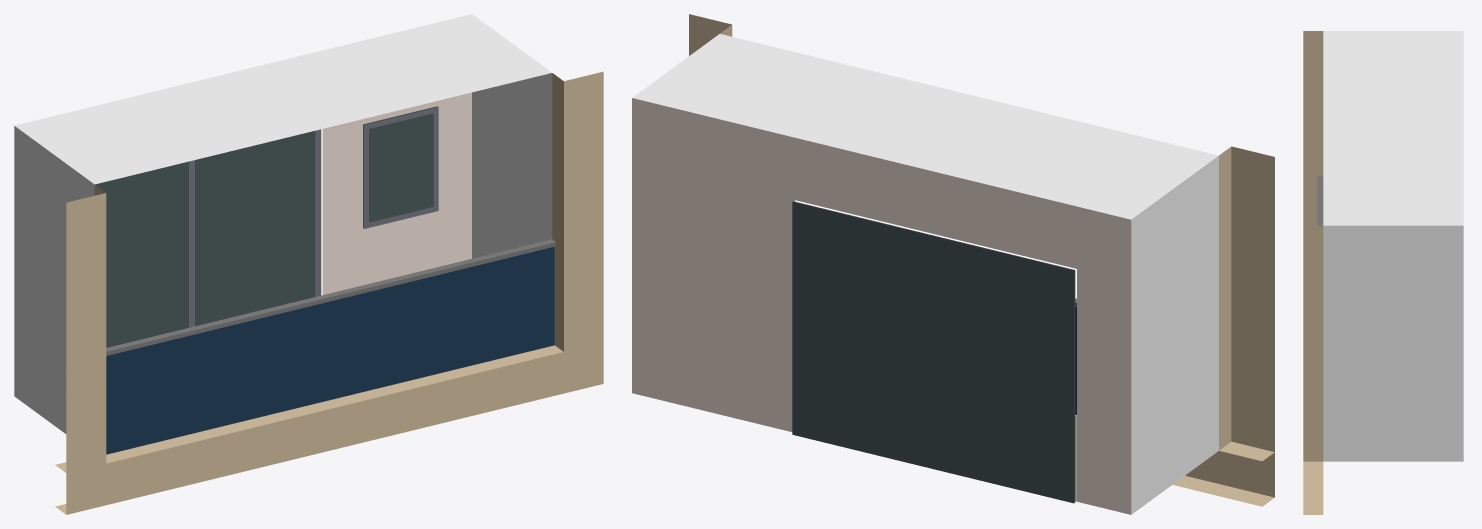
File: mid-w1.fbx
The picture shows the model from 3 angles, left to right: view 1: azimuth 30°, elevation 25°; view 2: azimuth 150°, elevation 25°; view 3: azimuth 270°, elevation 25°; orthographic projection. The views are drawn at different scales.
Parts seen in each view (by area): view 1: a2007/0/mid-w1; view 2: a2007/0/mid-w1; view 3: a2007/0/mid-w1.
Boxes of the visible parts, box(x1,y1,x2,y2) form: a2007/0/mid-w1: box(14, 14, 603, 514); a2007/0/mid-w1: box(632, 14, 1274, 514); a2007/0/mid-w1: box(1303, 31, 1463, 514).
Bounding box in the file's own units: 5.4 × 3 × 1.64.
